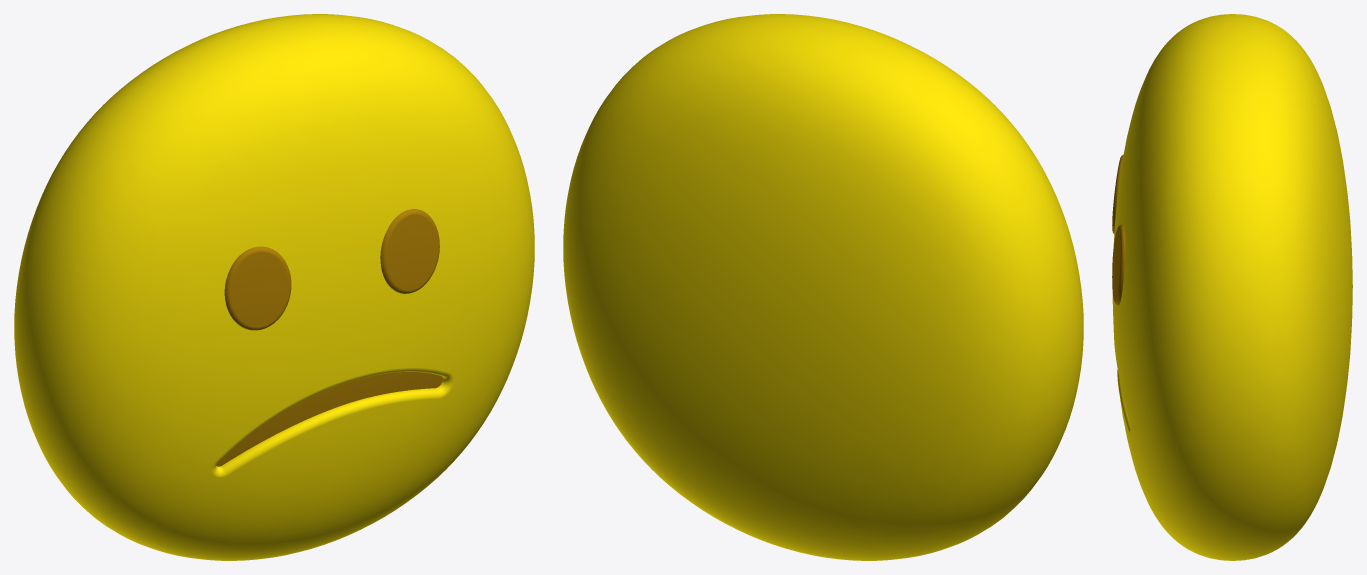
3 renders of one model, left to right at view 1: azimuth 30°, elevation 25°; view 2: azimuth 150°, elevation 25°; view 3: azimuth 270°, elevation 25°, orthographic. The views are drawn at different scales.
Visible parts, largest first — view 1: 013_SmileEmoji_D; view 2: 013_SmileEmoji_D; view 3: 013_SmileEmoji_D.
Part boxes in pixels (x1=…): 013_SmileEmoji_D: x1=14, y1=14, x2=534, y2=560; 013_SmileEmoji_D: x1=563, y1=14, x2=1083, y2=560; 013_SmileEmoji_D: x1=1112, y1=14, x2=1352, y2=560.
Size of the model in its own units: 0.1561 by 0.1561 by 0.0697.
